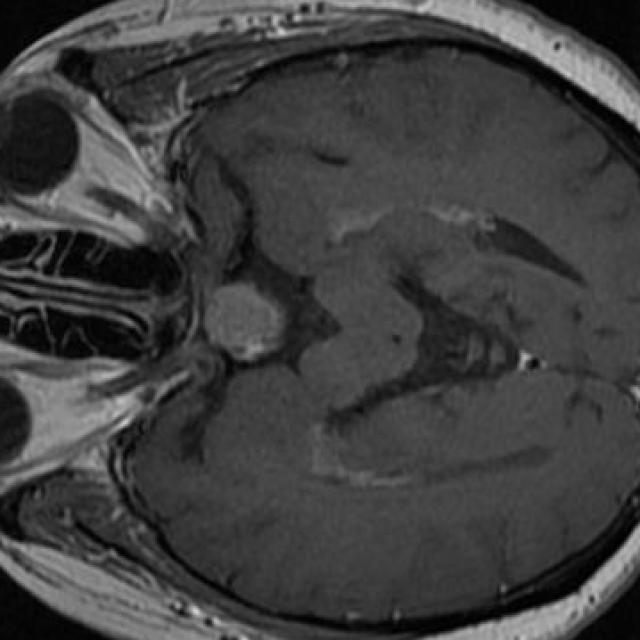pituitary: (207, 287, 282, 360)
